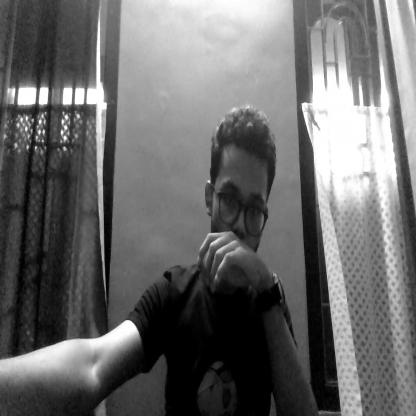Distracted: (207, 109, 278, 250)
